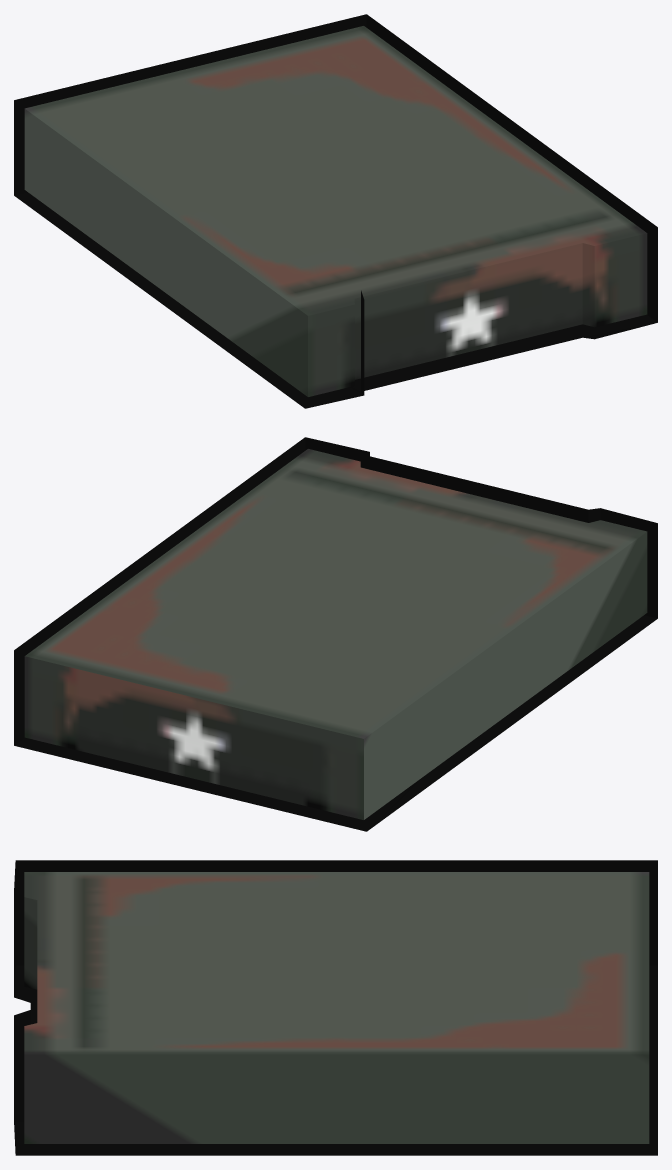
The model's file is Building_AncientMilitaryCrate_Things_Building_Ruins_AncientMilitaryCrate_AncientMilitaryCrateC.glb.
3 renders of one model, top to bottom at view 1: azimuth 30°, elevation 25°; view 2: azimuth 150°, elevation 25°; view 3: azimuth 270°, elevation 25°, orthographic. The views are drawn at different scales.
Visible parts, largest first — view 1: Body, Outline; view 2: Body, Outline; view 3: Body, Outline.
Part boxes in pixels (x1,y1,x2,y2): Body: (24, 26, 647, 396); Outline: (14, 14, 657, 408); Body: (24, 449, 647, 819); Outline: (14, 437, 657, 831); Body: (24, 872, 649, 1143); Outline: (14, 860, 657, 1155).
Size of the model in its own units: 0.9423 by 0.26 by 1.35.
2 materials, 1 textured.
